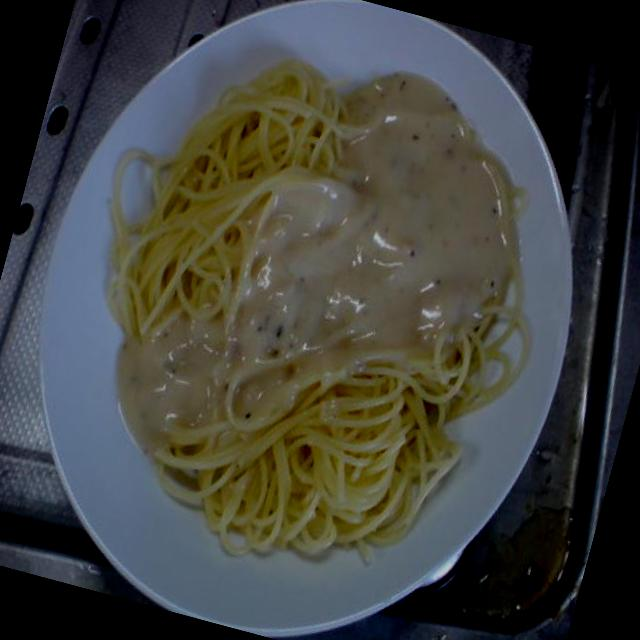Pasta: (68, 19, 556, 584)
